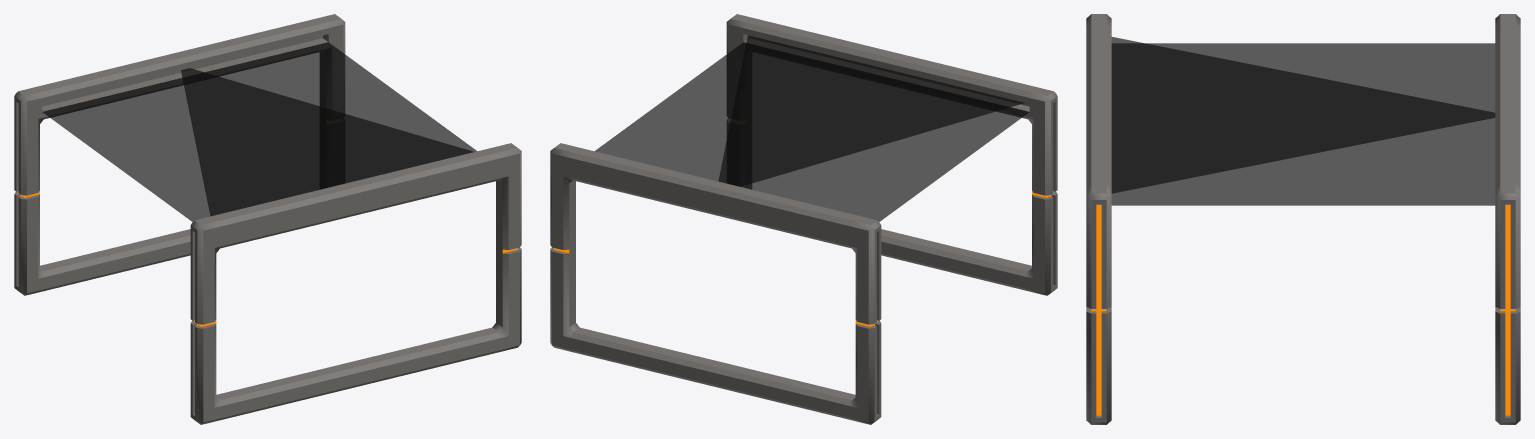
Rendered from table.glb.
The picture shows the model from 3 angles, left to right: view 1: azimuth 30°, elevation 25°; view 2: azimuth 150°, elevation 25°; view 3: azimuth 270°, elevation 25°; orthographic projection. The views are drawn at different scales.
Parts seen in each view (by area): view 1: Mesh1_Color_C05_0, Mesh7_Metal_Silver_0, Mesh6_Metal_Silver_0, Mesh4_Metal_Silver_0, Mesh5_Metal_Silver_0, Mesh3_Metal_Silver_0, Mesh2_Metal_Silver_0; view 2: Mesh1_Color_C05_0, Mesh6_Metal_Silver_0, Mesh7_Metal_Silver_0, Mesh5_Metal_Silver_0, Mesh4_Metal_Silver_0, Mesh2_Metal_Silver_0, Mesh3_Metal_Silver_0; view 3: Mesh1_Color_C05_0, Mesh2_Metal_Silver_0, Mesh3_Metal_Silver_0, Mesh6_Metal_Silver_0, Mesh7_Metal_Silver_0, Mesh2_Color_C04_0, Mesh3_Color_C04_0.
Part boxes in pixels (x1,y1,x2,y2): Mesh1_Color_C05_0: [42, 42, 476, 221]; Mesh7_Metal_Silver_0: [214, 148, 500, 420]; Mesh6_Metal_Silver_0: [37, 18, 324, 290]; Mesh4_Metal_Silver_0: [190, 215, 222, 424]; Mesh5_Metal_Silver_0: [14, 86, 45, 295]; Mesh3_Metal_Silver_0: [492, 143, 521, 352]; Mesh2_Metal_Silver_0: [316, 14, 345, 113]; Mesh1_Color_C05_0: [595, 35, 1029, 221]; Mesh6_Metal_Silver_0: [571, 148, 857, 420]; Mesh7_Metal_Silver_0: [747, 18, 1034, 290]; Mesh5_Metal_Silver_0: [849, 215, 881, 424]; Mesh4_Metal_Silver_0: [1026, 86, 1057, 295]; Mesh2_Metal_Silver_0: [550, 143, 579, 352]; Mesh3_Metal_Silver_0: [726, 14, 755, 189]; Mesh1_Color_C05_0: [1111, 37, 1495, 205]; Mesh2_Metal_Silver_0: [1495, 182, 1520, 424]; Mesh3_Metal_Silver_0: [1086, 182, 1111, 424]; Mesh6_Metal_Silver_0: [1495, 24, 1520, 186]; Mesh7_Metal_Silver_0: [1086, 24, 1111, 186]; Mesh2_Color_C04_0: [1500, 204, 1515, 415]; Mesh3_Color_C04_0: [1091, 204, 1106, 415].
Size of the model in its own units: 1.6 by 0.9384 by 1.6.
